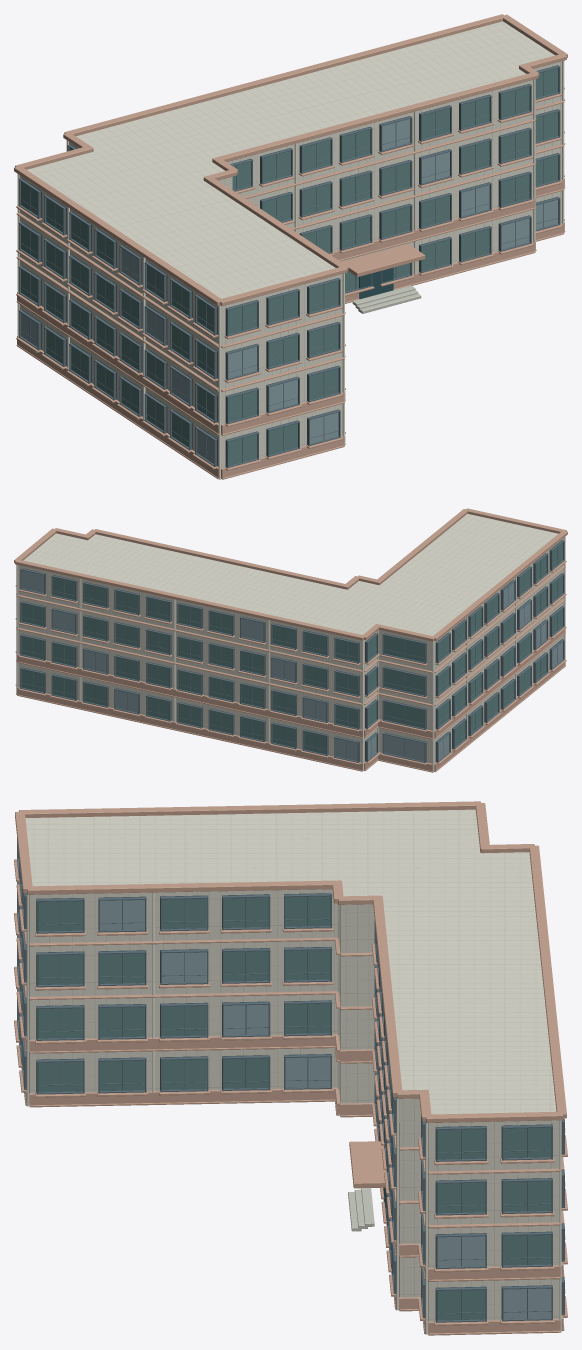
Rendered from science.glb.
The picture shows the model from 3 angles, top to bottom: view 1: azimuth 30°, elevation 25°; view 2: azimuth 150°, elevation 25°; view 3: azimuth 270°, elevation 25°; orthographic projection. The views are drawn at different scales.
Parts seen in each view (by area): view 1: science_body_e6e5d8, science_glass_668a8a, science_stone_cba894, science, science_glass_90a8b0, science_stone_d1ad9b, science_stone_e6e5d8, science_stone_c9ccc0, science_glass_355b64; view 2: science_body_e6e5d8, science_glass_668a8a, science, science_stone_cba894, science_stone_d1ad9b, science_glass_90a8b0, science_stone_e6e5d8; view 3: science_body_e6e5d8, science_stone_cba894, science_glass_668a8a, science, science_stone_d1ad9b, science_glass_90a8b0, science_stone_e6e5d8, science_stone_c9ccc0.
Boxes of the visible parts, x1,y1,x2,y2 form: science_body_e6e5d8: (19, 21, 561, 468); science_glass_668a8a: (21, 68, 558, 465); science_stone_cba894: (14, 14, 567, 479); science: (18, 65, 560, 468); science_glass_90a8b0: (21, 119, 558, 463); science_stone_d1ad9b: (17, 178, 564, 478); science_stone_e6e5d8: (17, 61, 564, 479); science_stone_c9ccc0: (352, 285, 421, 313); science_glass_355b64: (359, 267, 393, 299); science_body_e6e5d8: (18, 513, 563, 763); science_glass_668a8a: (21, 543, 562, 754); science: (20, 540, 564, 763); science_stone_cba894: (14, 508, 567, 772); science_stone_d1ad9b: (17, 625, 565, 771); science_glass_90a8b0: (21, 570, 562, 761); science_stone_e6e5d8: (16, 536, 565, 772); science_body_e6e5d8: (25, 809, 559, 1321); science_stone_cba894: (14, 801, 567, 1335); science_glass_668a8a: (38, 896, 551, 1320); science: (17, 837, 564, 1322); science_stone_d1ad9b: (25, 1034, 563, 1333); science_glass_90a8b0: (100, 900, 551, 1318); science_stone_e6e5d8: (26, 892, 561, 1334); science_stone_c9ccc0: (348, 1188, 374, 1231).
Size of the model in its own units: 45.82 by 14.68 by 33.72.
Materials: 10 (1 with a texture image).
